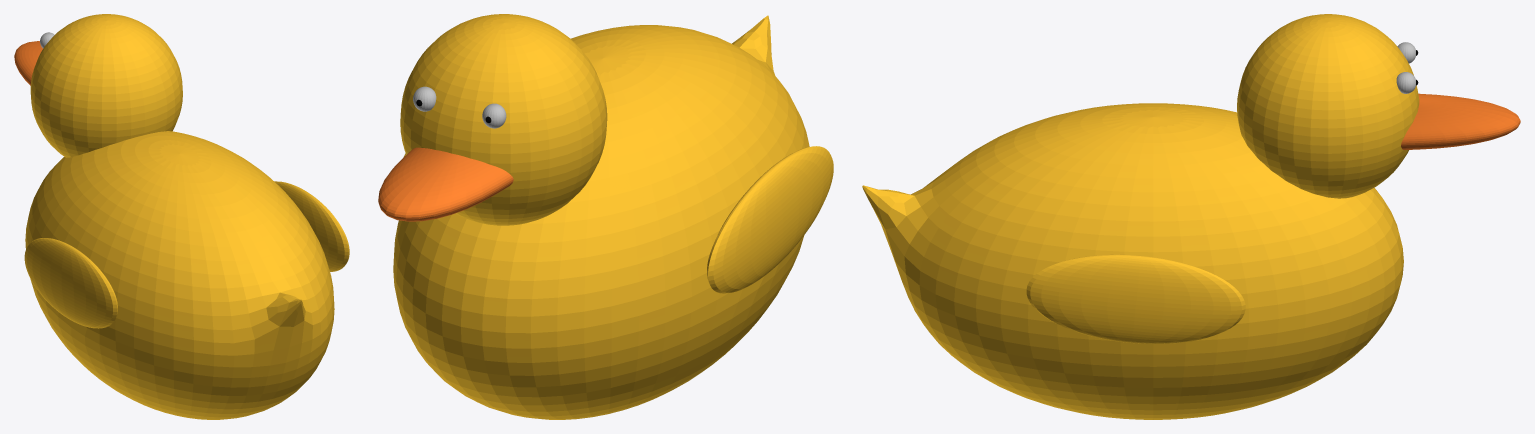
File: duck.fbx
The picture shows the model from 3 angles, left to right: view 1: azimuth 30°, elevation 25°; view 2: azimuth 150°, elevation 25°; view 3: azimuth 270°, elevation 25°; orthographic projection. The views are drawn at different scales.
Visible parts, largest first — view 1: Sphere.003; view 2: Sphere.003; view 3: Sphere.003.
Boxes of the visible parts, x1=… form: Sphere.003: x1=14, y1=14, x2=349, y2=419; Sphere.003: x1=378, y1=14, x2=833, y2=419; Sphere.003: x1=862, y1=14, x2=1520, y2=419.
Bounding box in the file's own units: 217 × 265 × 412.
